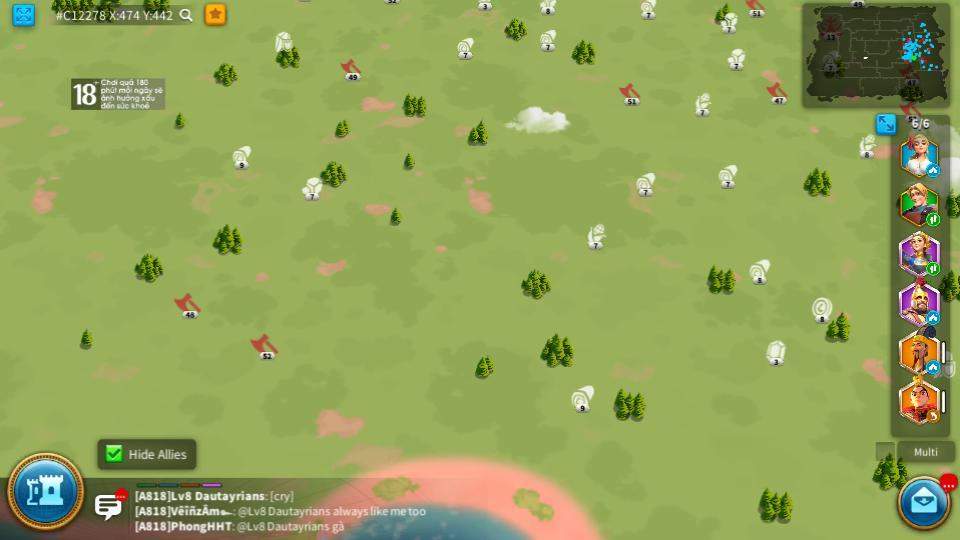gem-z-out: (762, 340, 787, 365)
march_idle: (927, 312, 940, 324), (927, 165, 941, 176), (927, 362, 940, 373)
march_marching: (925, 263, 938, 275), (927, 215, 940, 226)
march_returning: (926, 411, 940, 422)
